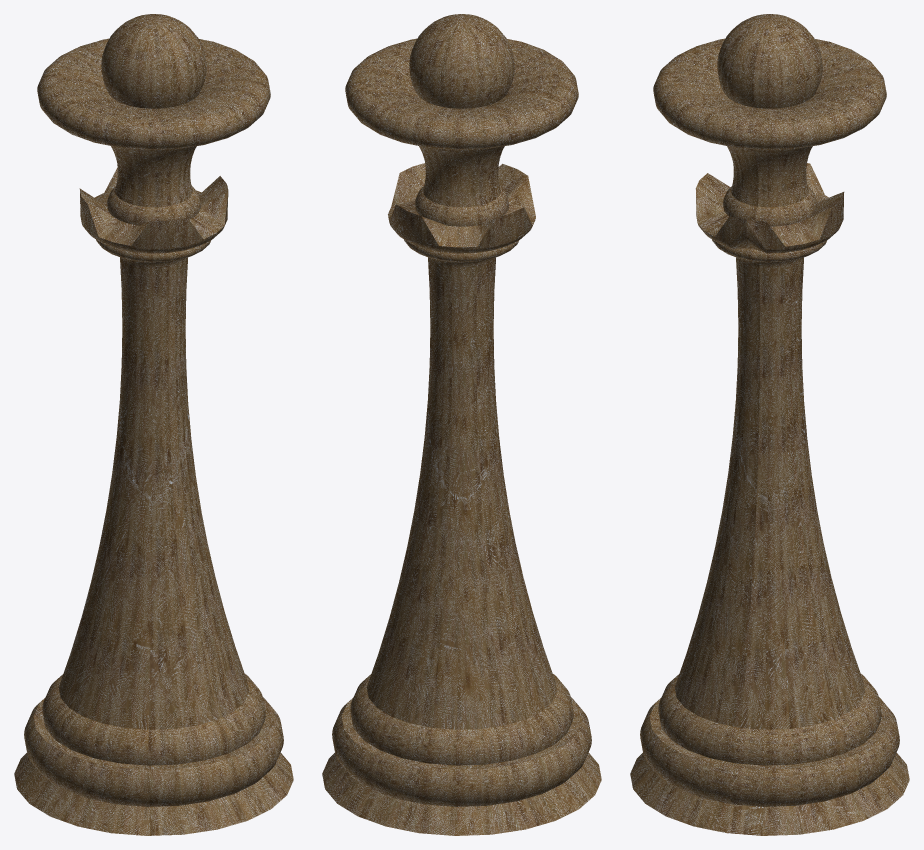
The model's file is queen.fbx.
3 renders of one model, left to right at view 1: azimuth 30°, elevation 25°; view 2: azimuth 150°, elevation 25°; view 3: azimuth 270°, elevation 25°, orthographic.
Visible parts, largest first — view 1: Group1; view 2: Group1; view 3: Group1.
Boxes of the visible parts, bbox=[...] form: Group1: bbox=[14, 14, 293, 835]; Group1: bbox=[322, 14, 601, 835]; Group1: bbox=[630, 14, 909, 835].
Bounding box in the file's own units: 456 × 1365 × 456.
